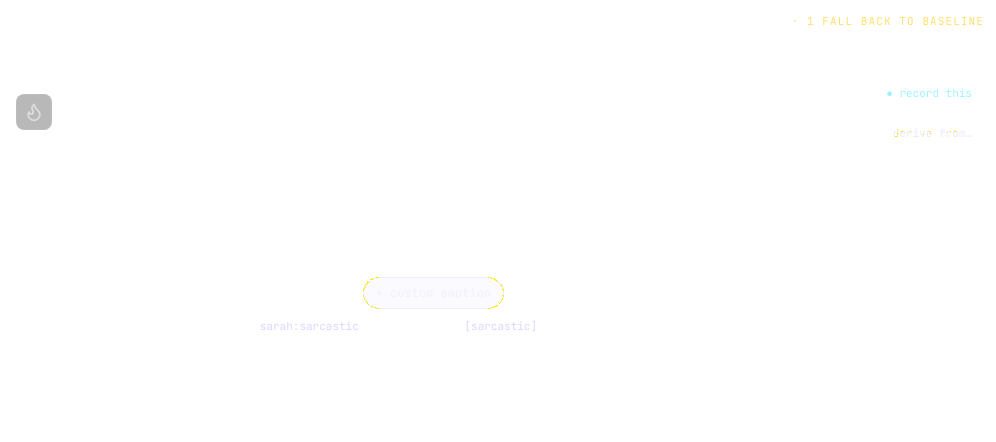
Test: EmotionRack — derive from… › opens a donor picker over the roster's recorded takes
Step 1. Click the button with aria-label "Derive the Angry voice from another recording" → (932, 134), box [893,126,972,142]
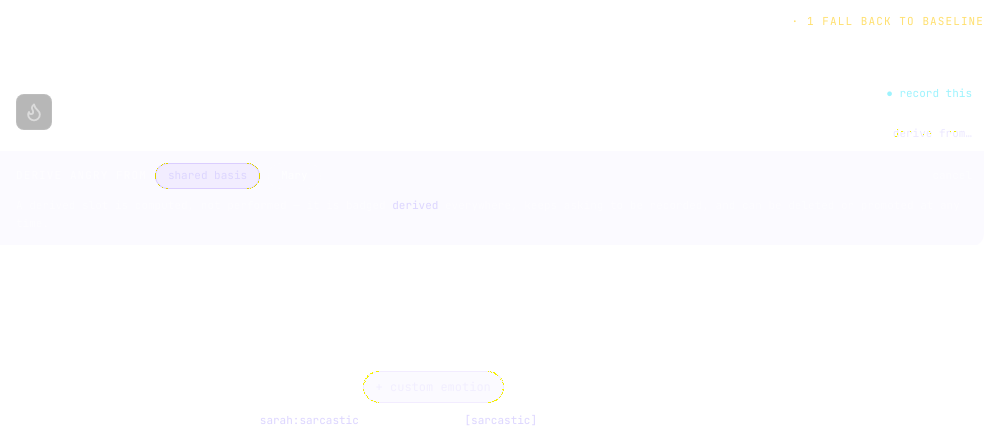
Now the button "shared basis" is shown, box [155,163,260,189]
